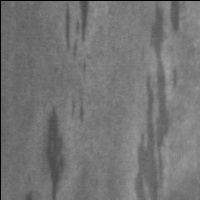inclusion: (129, 2, 183, 200), (61, 1, 91, 126), (42, 105, 67, 200), (21, 174, 35, 200)
